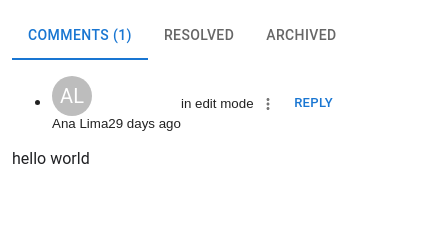
Test: <CommentsPanel /> › works in EDIT mode: anchored cards render live (not orphaned) and Delete still works
The width and height of the screenshot is (424, 236).
Step 1. Click the button named "Comment actions" → {"x": 268, "y": 104}, box [254,90,282,118]
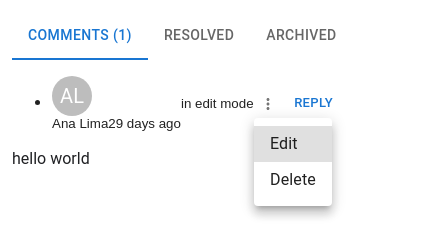
Step 2. Click the menu item "Delete" → {"x": 293, "y": 180}, box [270,170,316,189]
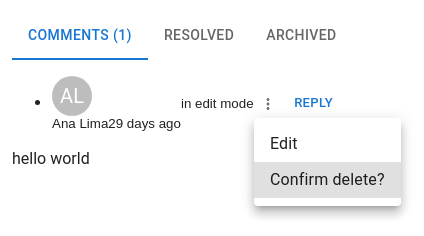
Step 3. Click the menu item "Confirm delete?" → {"x": 327, "y": 180}, box [254,162,401,198]
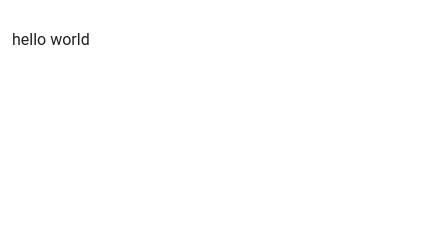
Now the button "in edit mode" is gone
